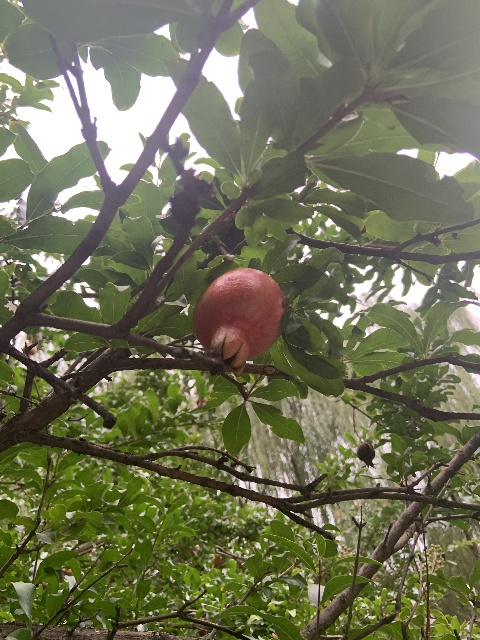ripe: (192, 267, 285, 377)
